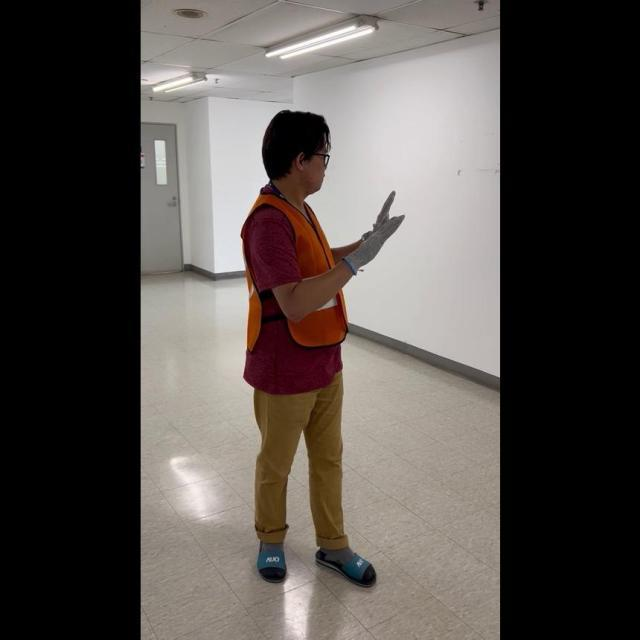gloved_hand: (347, 191, 404, 273)
